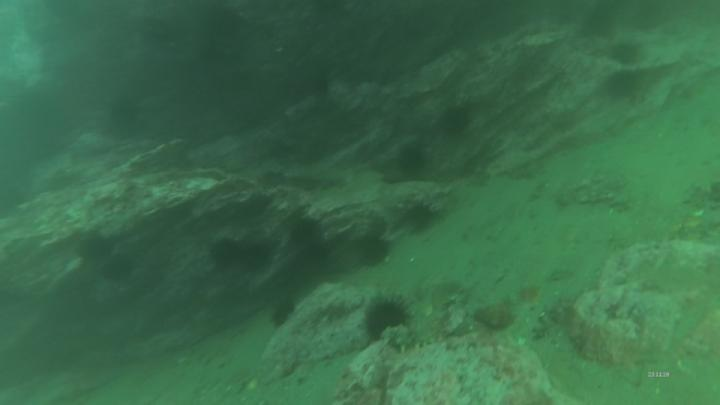echinus: (356, 291, 414, 347), (234, 239, 284, 276), (601, 67, 641, 106), (442, 108, 482, 138), (358, 238, 393, 271), (287, 217, 325, 247), (400, 201, 438, 231), (78, 234, 117, 261), (97, 257, 137, 283), (208, 238, 241, 268), (400, 149, 433, 178), (272, 297, 299, 330)
